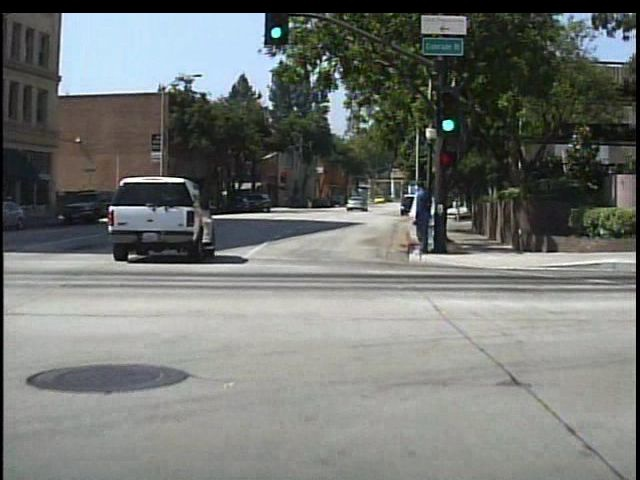person: (413, 180, 436, 257), (408, 185, 429, 259), (303, 194, 316, 209)
